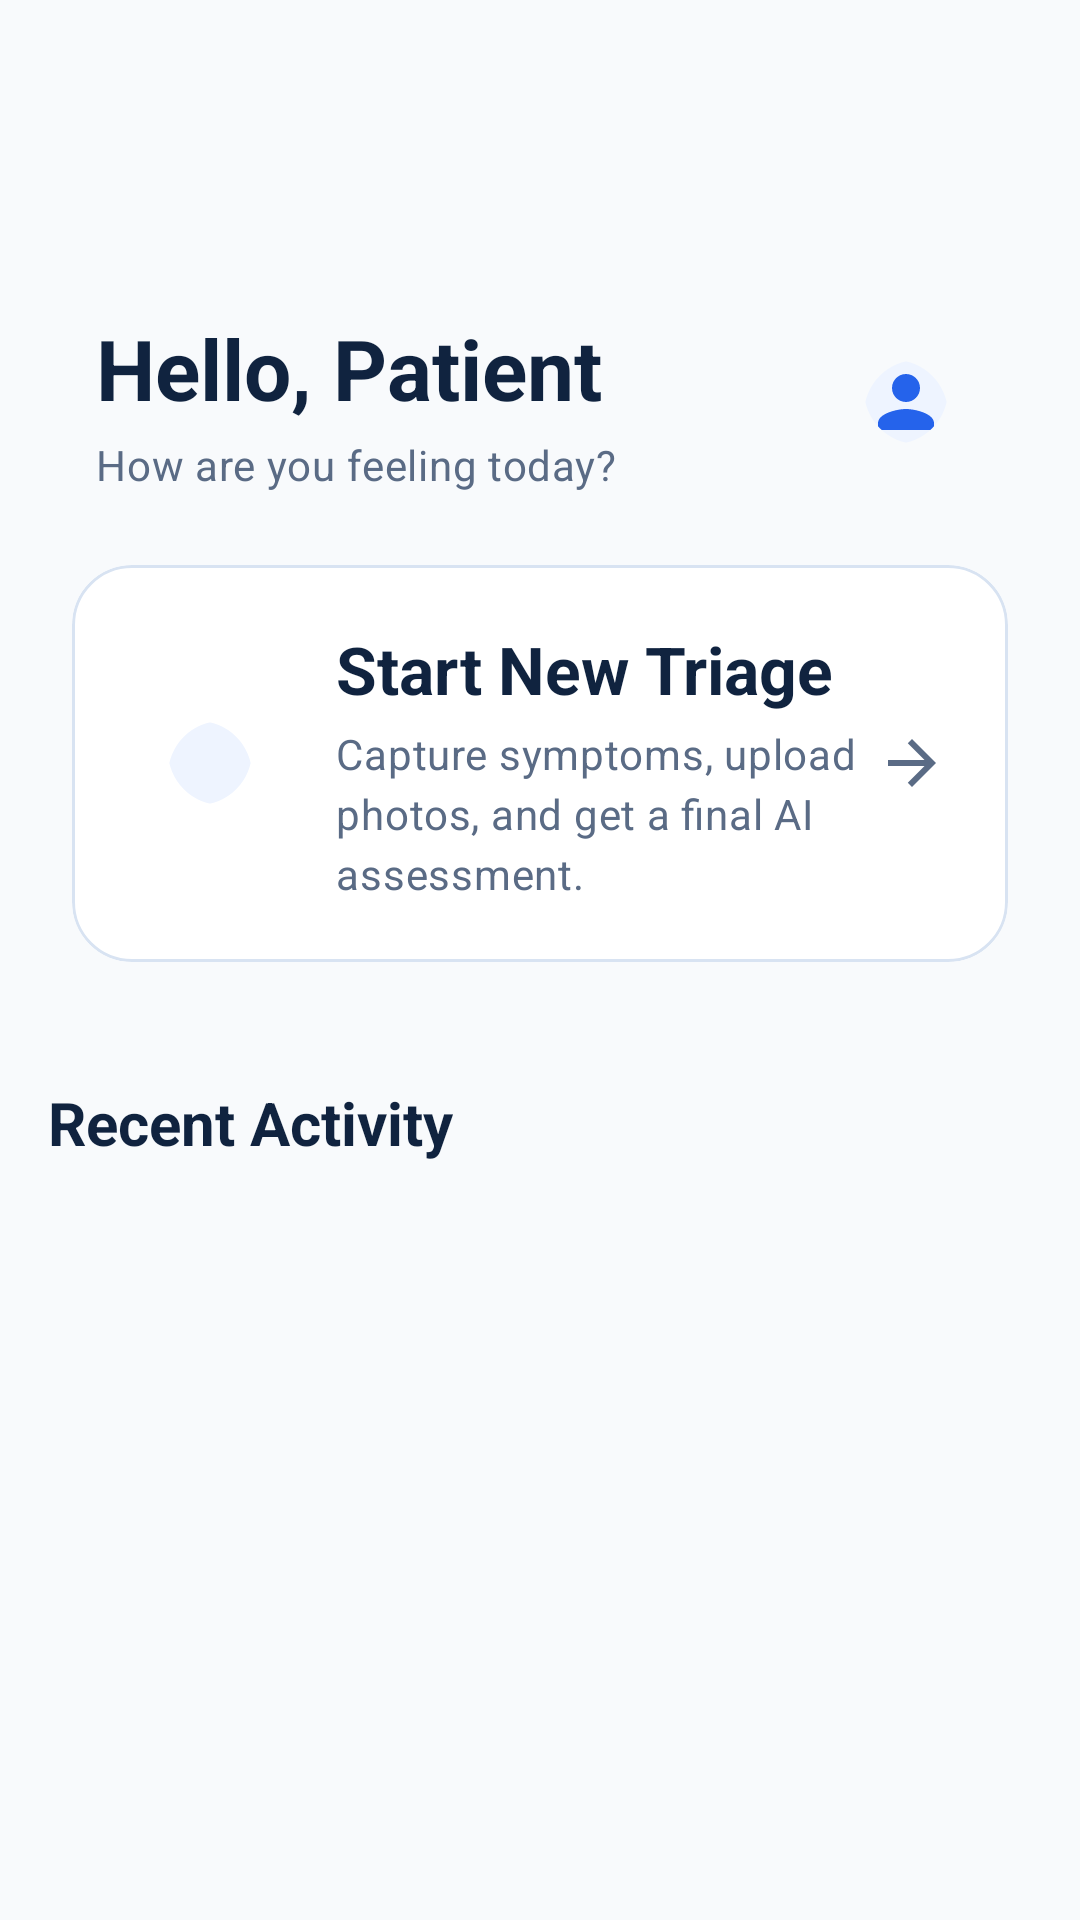

Where icons sit on this 1080x1920 app screen, as (x1, y1, x2, y2):
arrow forward: (888, 739, 936, 787)
person: (878, 374, 934, 430)
